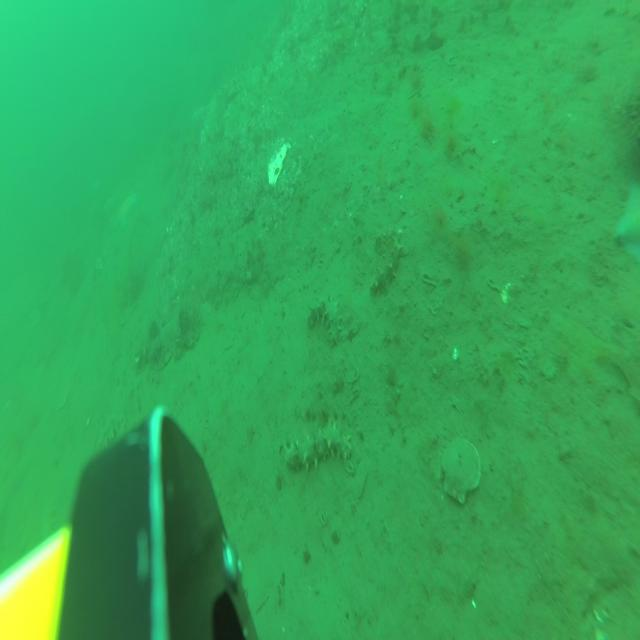holothurian: (285, 418, 352, 471), (370, 233, 402, 296), (309, 294, 342, 347), (96, 410, 121, 457), (43, 504, 55, 568)
scallop: (442, 440, 482, 502)
starfish: (617, 174, 640, 263), (117, 190, 139, 230)
